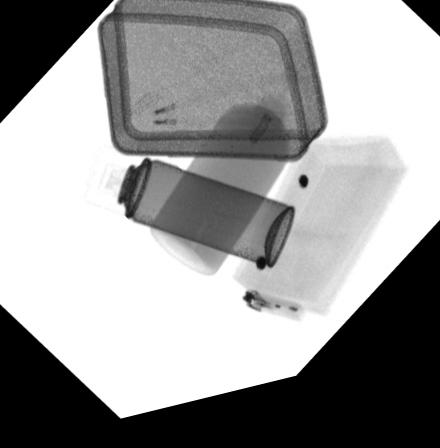Lighter: (239, 299, 307, 335)
Sprayer: (82, 150, 293, 280)
